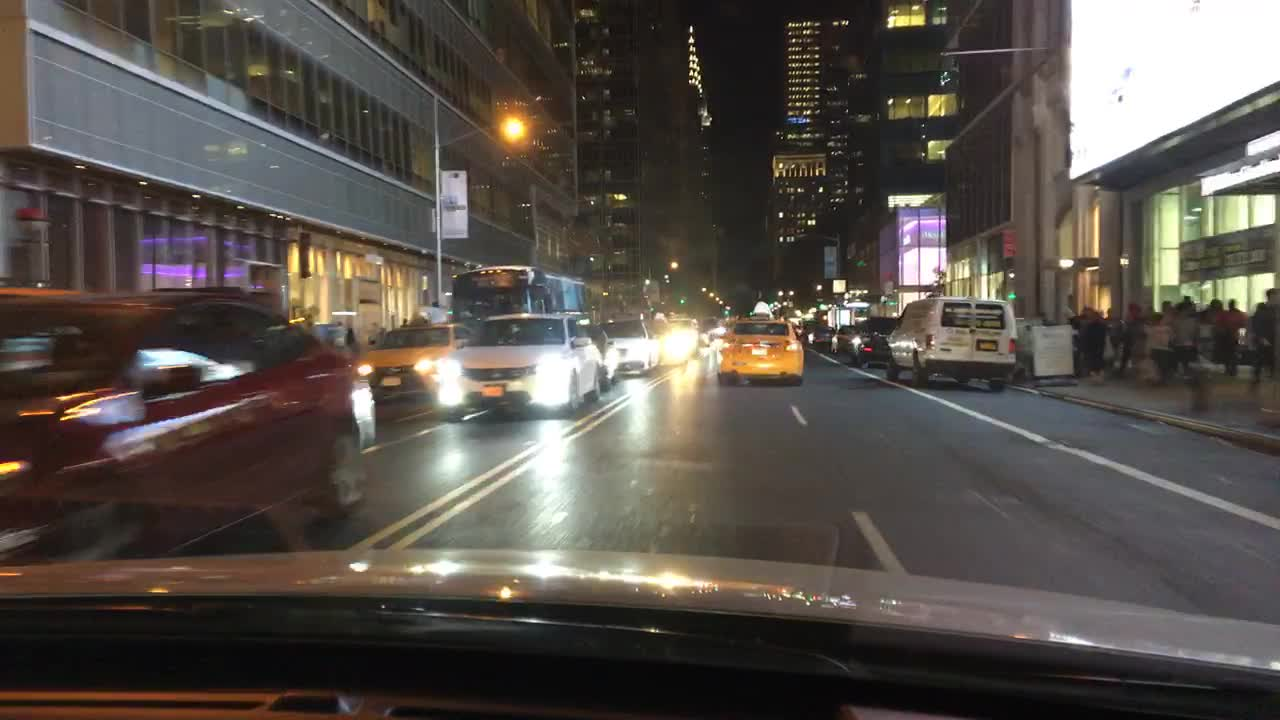bus: (447, 266, 595, 339)
car: (0, 282, 376, 550), (433, 310, 606, 418), (879, 293, 1017, 393), (344, 320, 472, 408), (714, 300, 805, 390), (573, 309, 621, 388), (604, 314, 663, 378), (840, 310, 899, 368), (644, 310, 688, 354), (665, 314, 703, 344), (827, 317, 854, 354), (710, 315, 732, 347), (803, 324, 833, 346)
person: (1211, 295, 1248, 376), (1076, 309, 1112, 383), (1113, 297, 1144, 378), (1171, 293, 1200, 371), (1257, 288, 1279, 390), (1097, 307, 1130, 374), (1142, 314, 1173, 380), (1198, 297, 1227, 364), (1242, 302, 1265, 386), (1157, 295, 1181, 374), (1063, 304, 1090, 373), (342, 322, 363, 351), (1184, 290, 1198, 307)
traffic sign: (1002, 226, 1019, 253), (832, 278, 847, 299)
